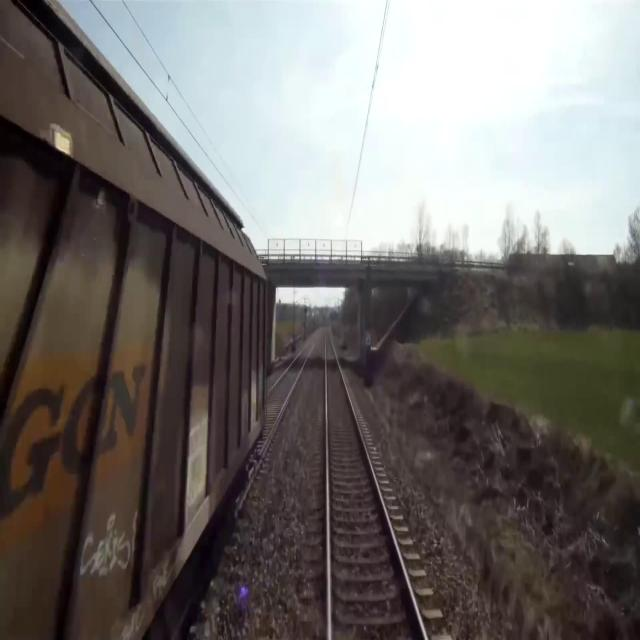rail-track: (326, 329, 423, 639), (265, 336, 315, 434)
